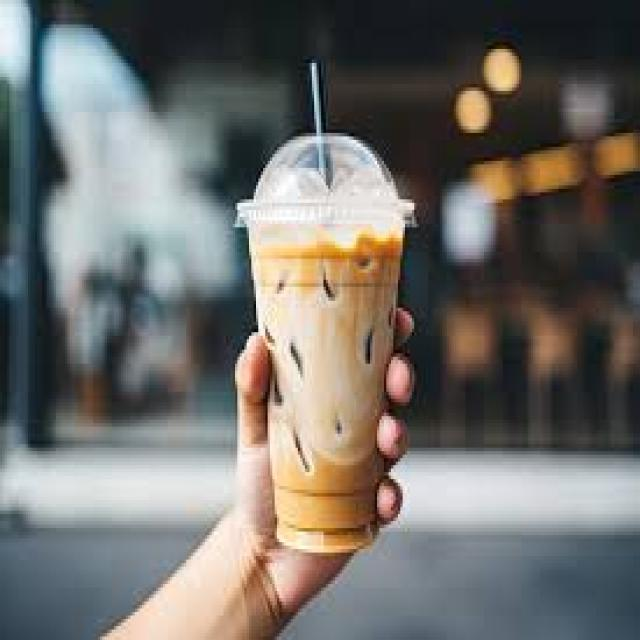bottle: (249, 224, 403, 553)
